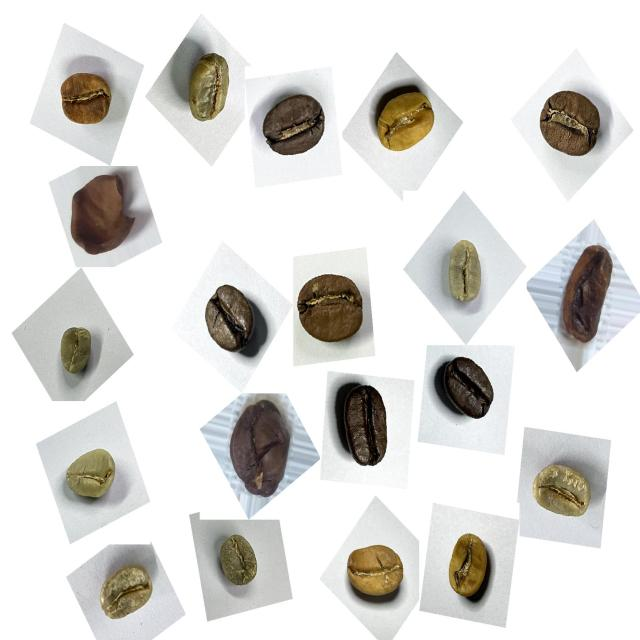bad: (544, 233, 624, 356), (221, 389, 301, 503), (60, 163, 140, 267)
dark: (322, 377, 404, 481), (192, 274, 269, 368), (434, 346, 506, 432)
green: (522, 450, 598, 534), (176, 40, 242, 136), (52, 436, 126, 519), (91, 552, 163, 634), (432, 233, 499, 319), (207, 527, 270, 598), (50, 316, 101, 384)
light: (366, 70, 449, 172), (437, 518, 506, 612), (335, 532, 412, 616), (50, 60, 119, 132)
medium: (288, 260, 372, 358), (251, 81, 337, 170), (530, 80, 610, 167)
